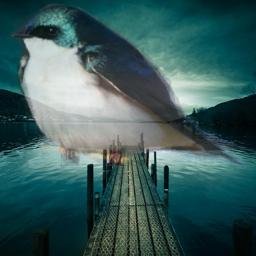Swallow: (7, 2, 247, 166)
